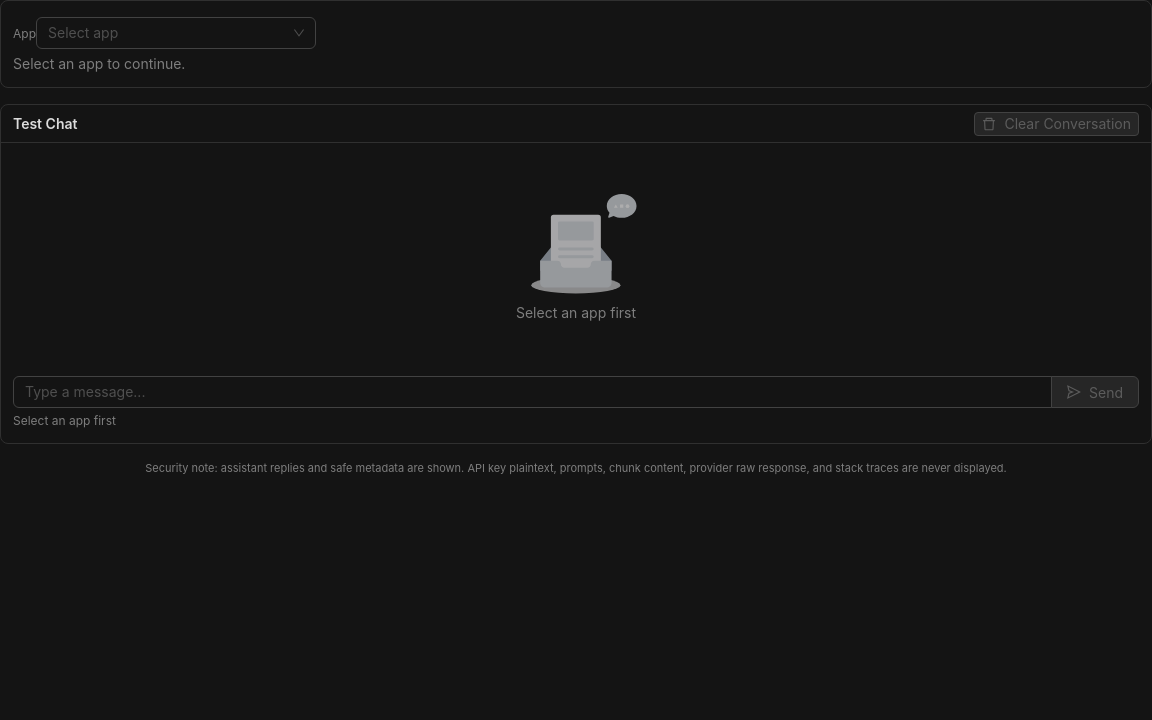
Test: TestChatPage › sends message and shows assistant response
Click the dropdown labelled "Select app" at (83, 32), box 48,24 -> 118,41
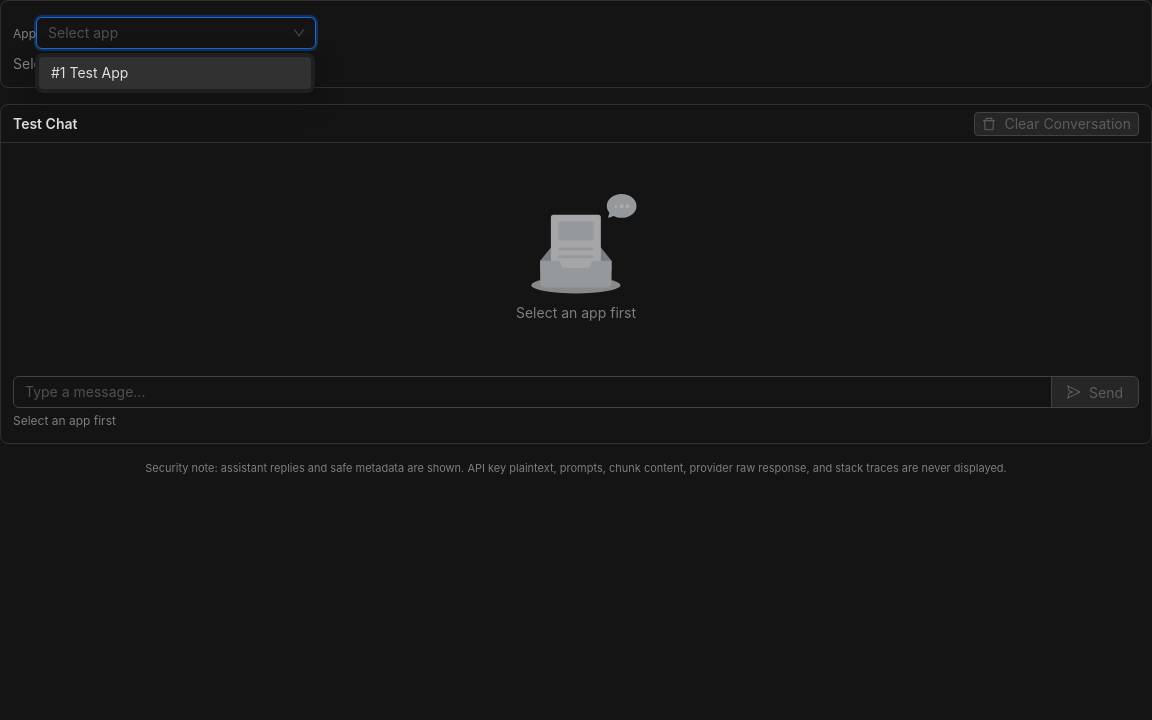
Click the text "#1 Test App" at (90, 72), box 51,64 -> 128,81
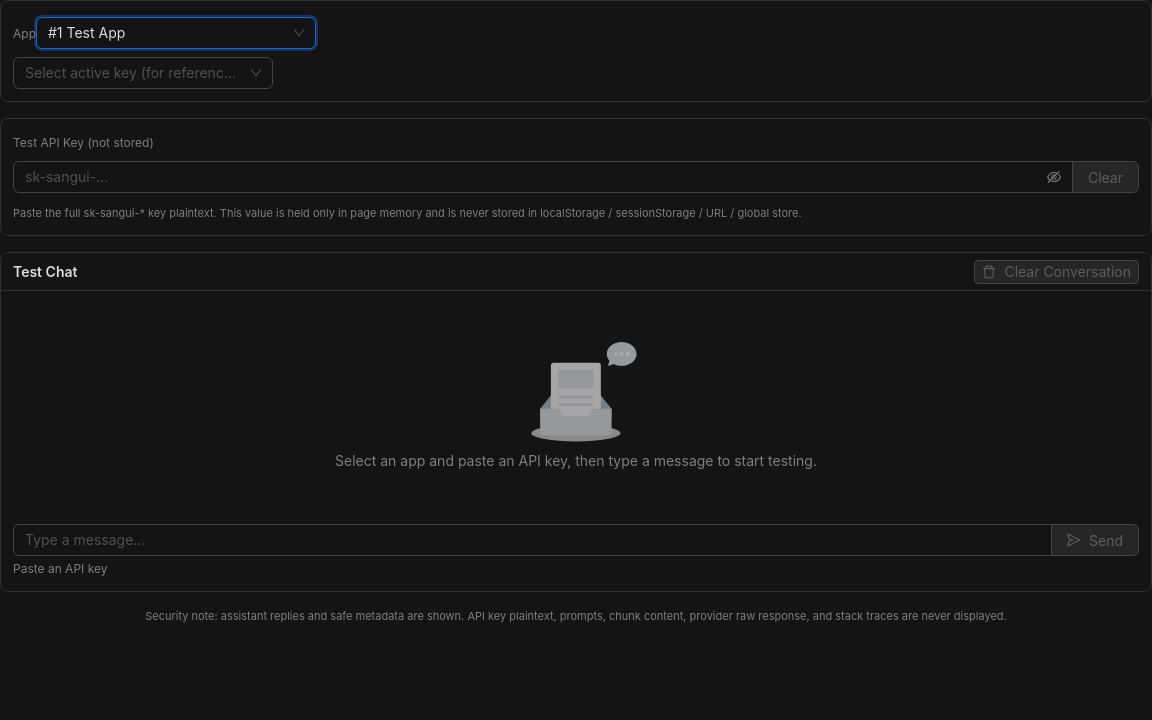
Type "sk-sangui-testkey1234567890abcdef" into the password field with placeholder "sk-sangui-..." at (534, 177), box 25,166 -> 1043,188
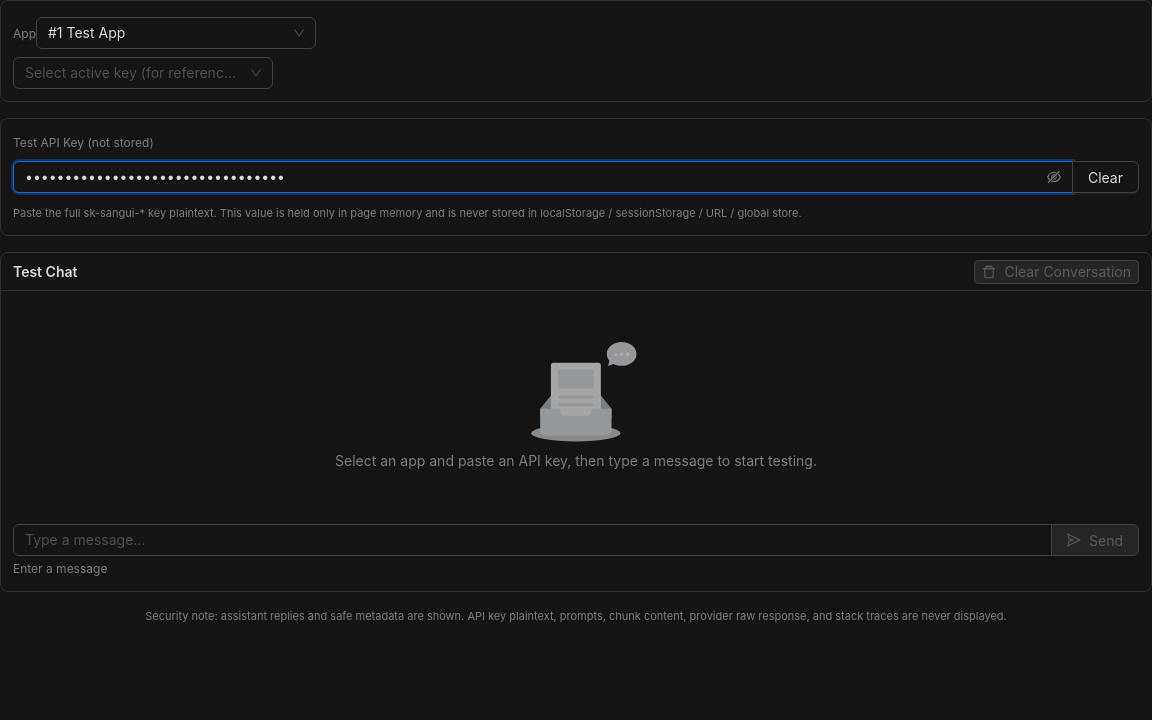
Type "Hello" into the field with placeholder "Type a message..." at (532, 540), box 13,524 -> 1052,556
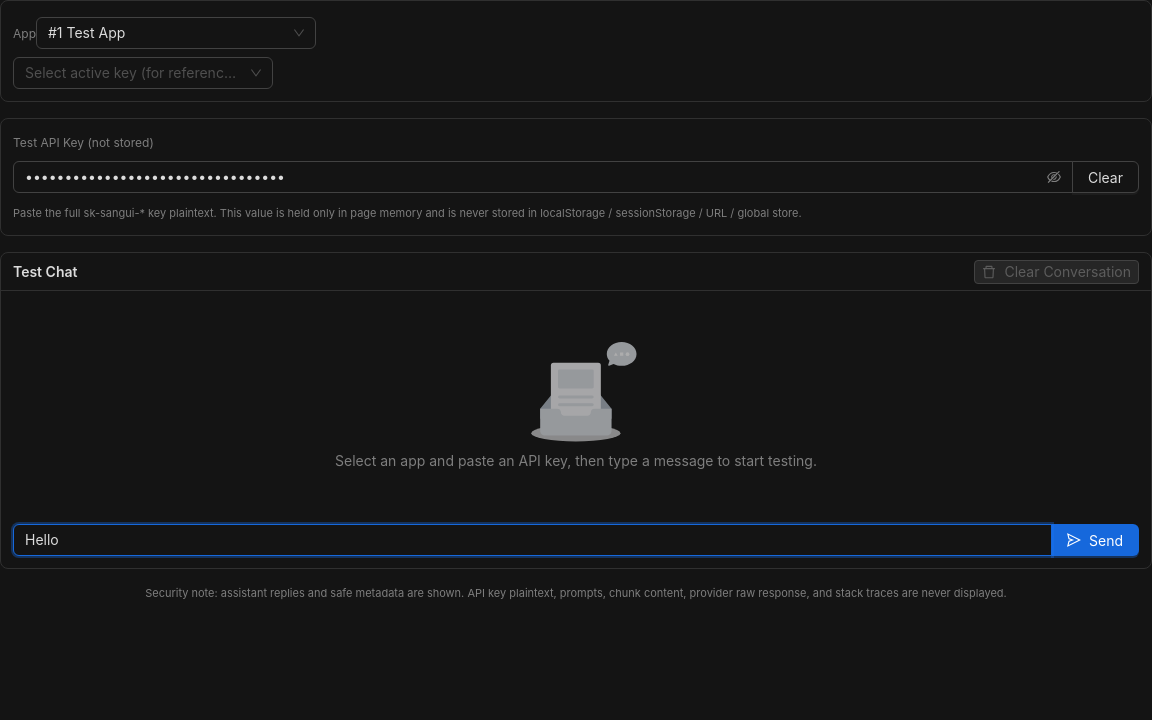
Click the button "Send" at (1095, 540), box 1051,524 -> 1139,556
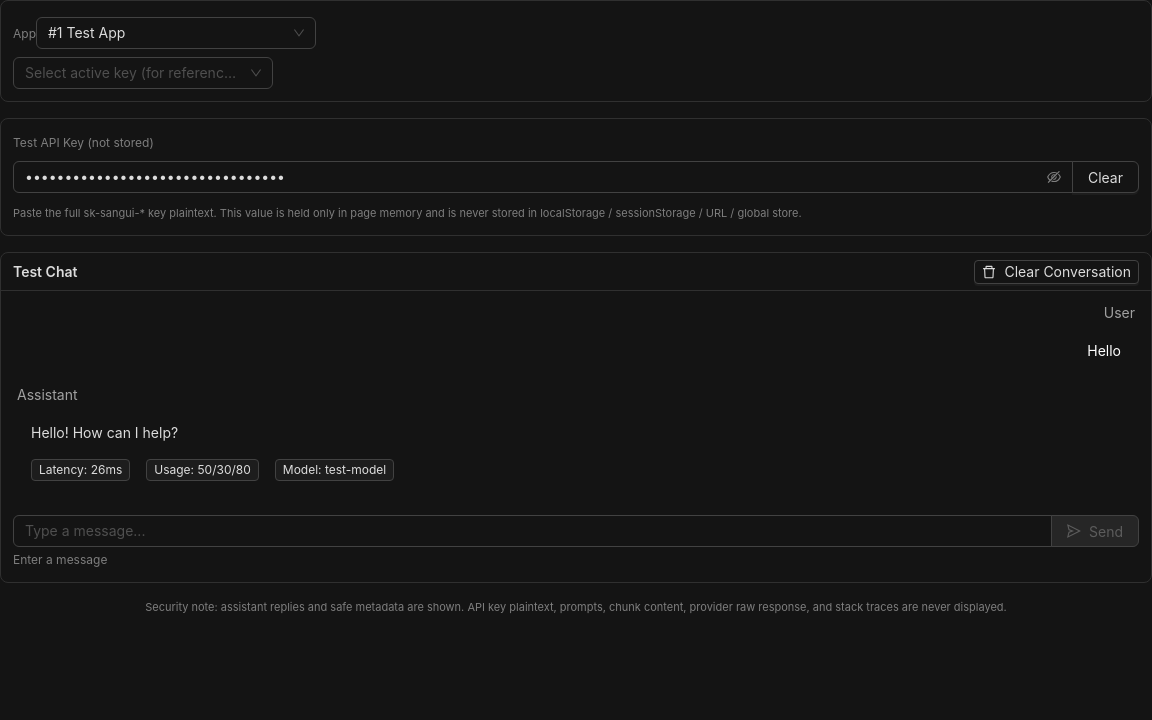
Check: the text "Hello" is shown, box 1087,342 -> 1121,359
Check: the text "Hello! How can I help?" is shown, box 31,424 -> 178,441
